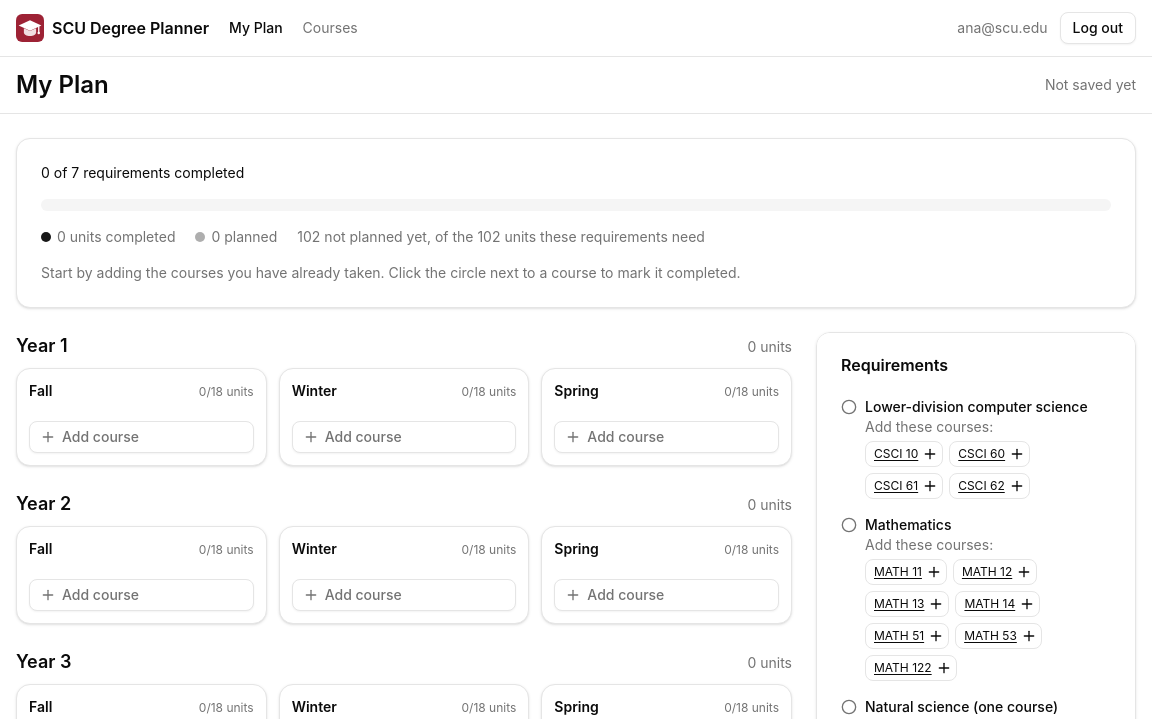
Test case: accounts › logs out straight away when everything is saved
Step 1. Click the button "Log out" → [1098, 28], box [1060, 12, 1136, 44]
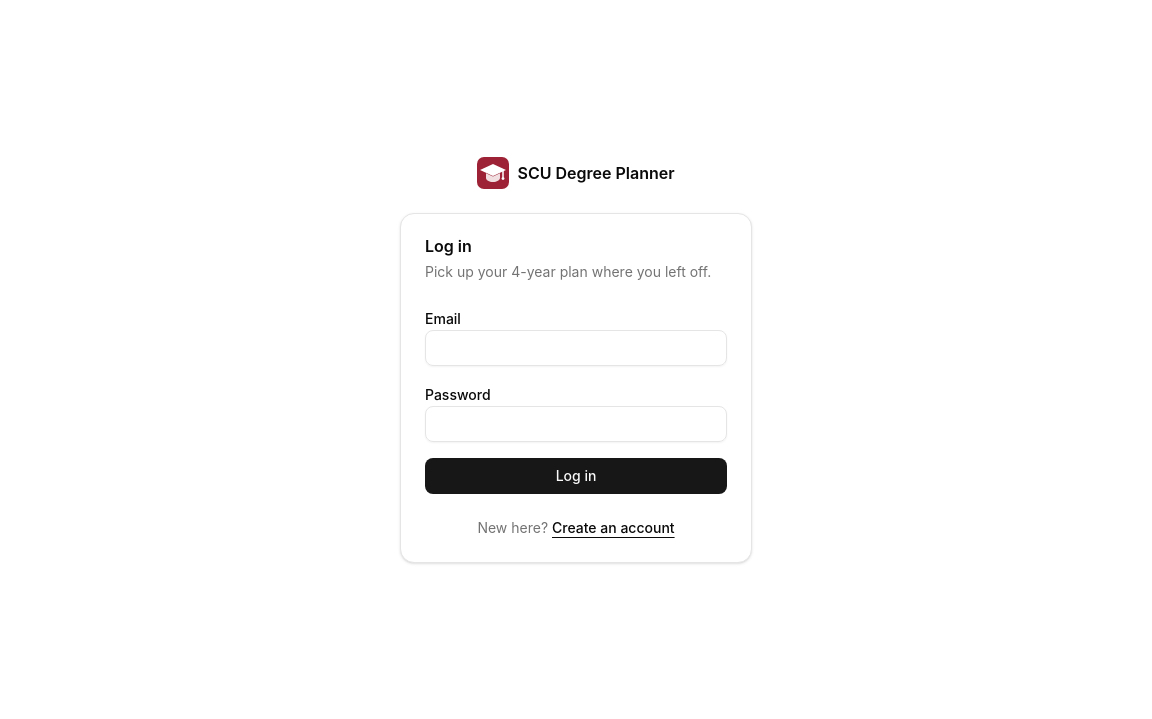
Expected: the heading "Log in" is shown, [425, 236, 472, 256]
